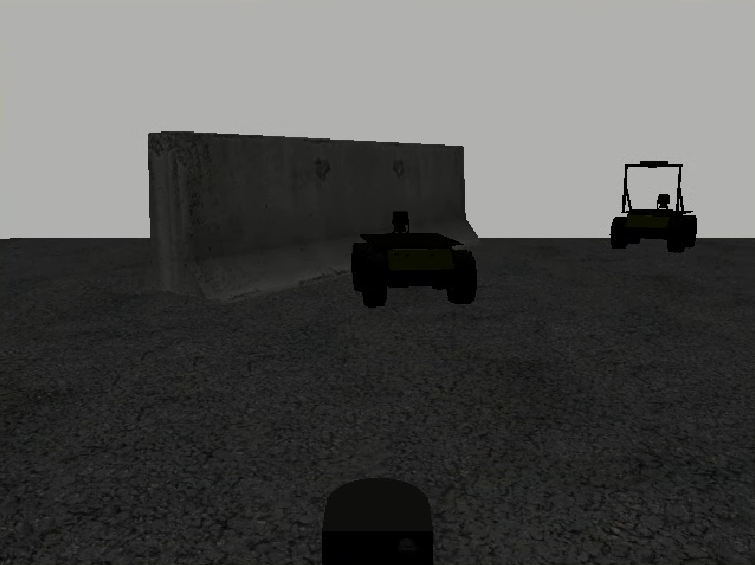husky: (350, 210, 479, 308), (610, 208, 697, 252)
